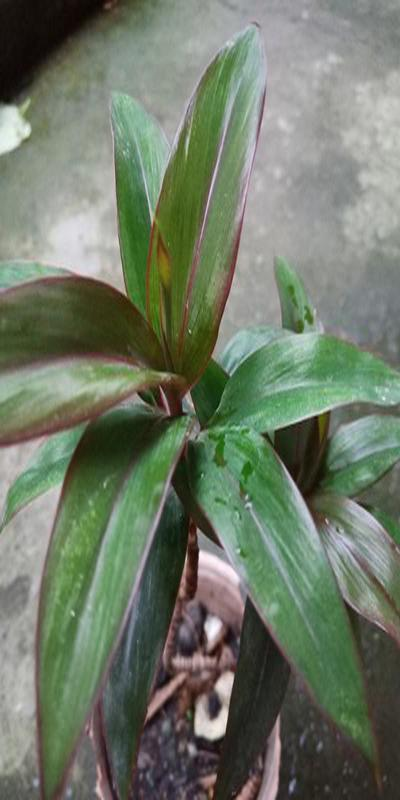Baston de san jose: (33, 74, 367, 780)
